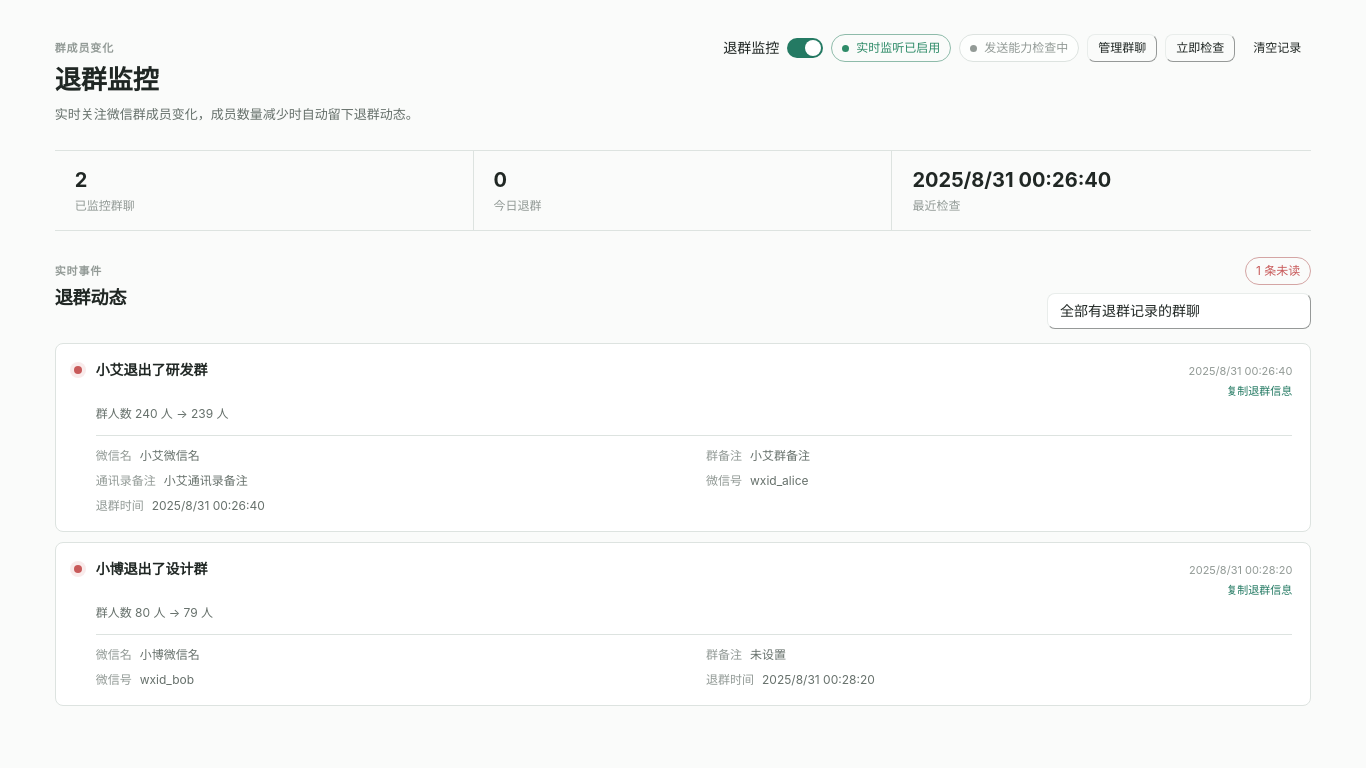
Test: GroupExitMonitorWorkspace › filters to groups that have exit events and clears the history
Check: the text "小博退出了设计群" is shown, box [96,559,208,579]
Click the dropdown named "筛选退群群聊".
click(1179, 311)  # box [1047,293,1311,329]
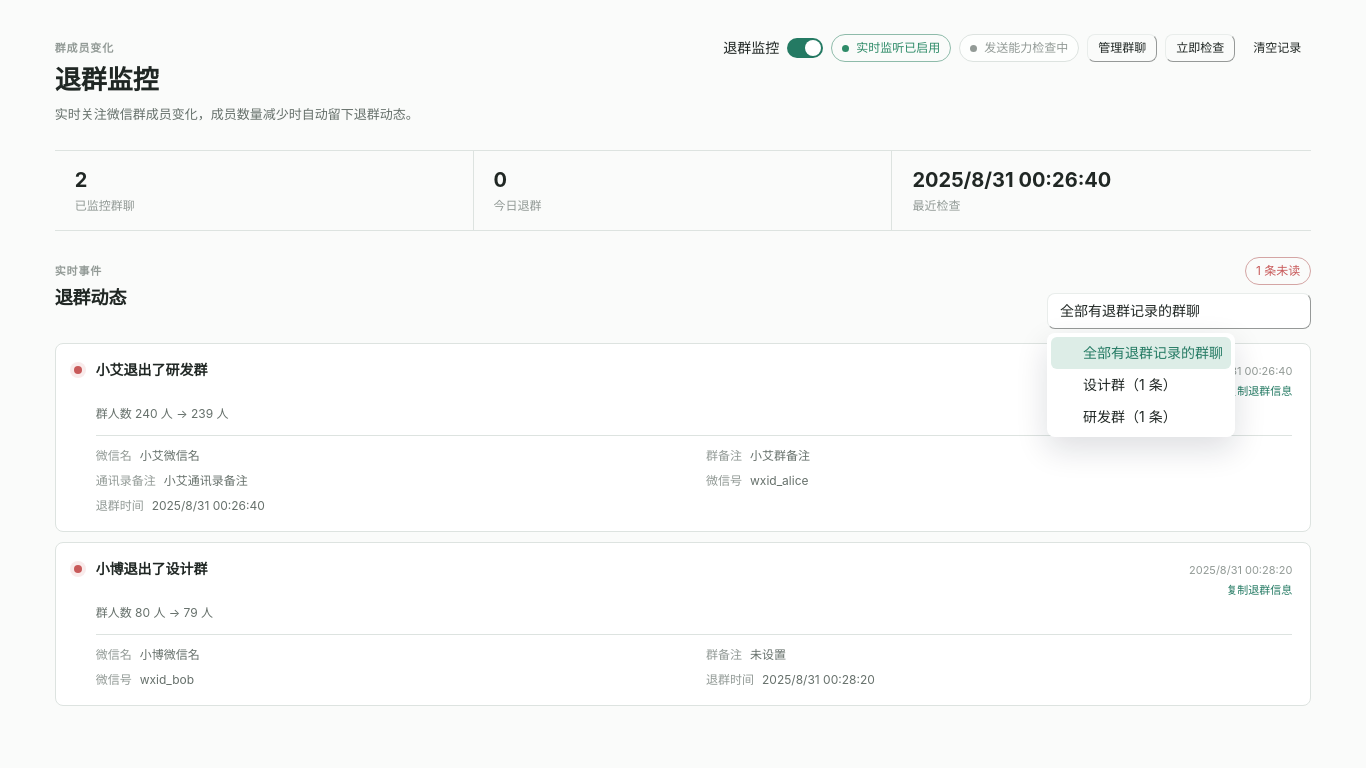
Click the option "研发群（1 条）".
click(1130, 416)  # box [1083,408,1177,425]
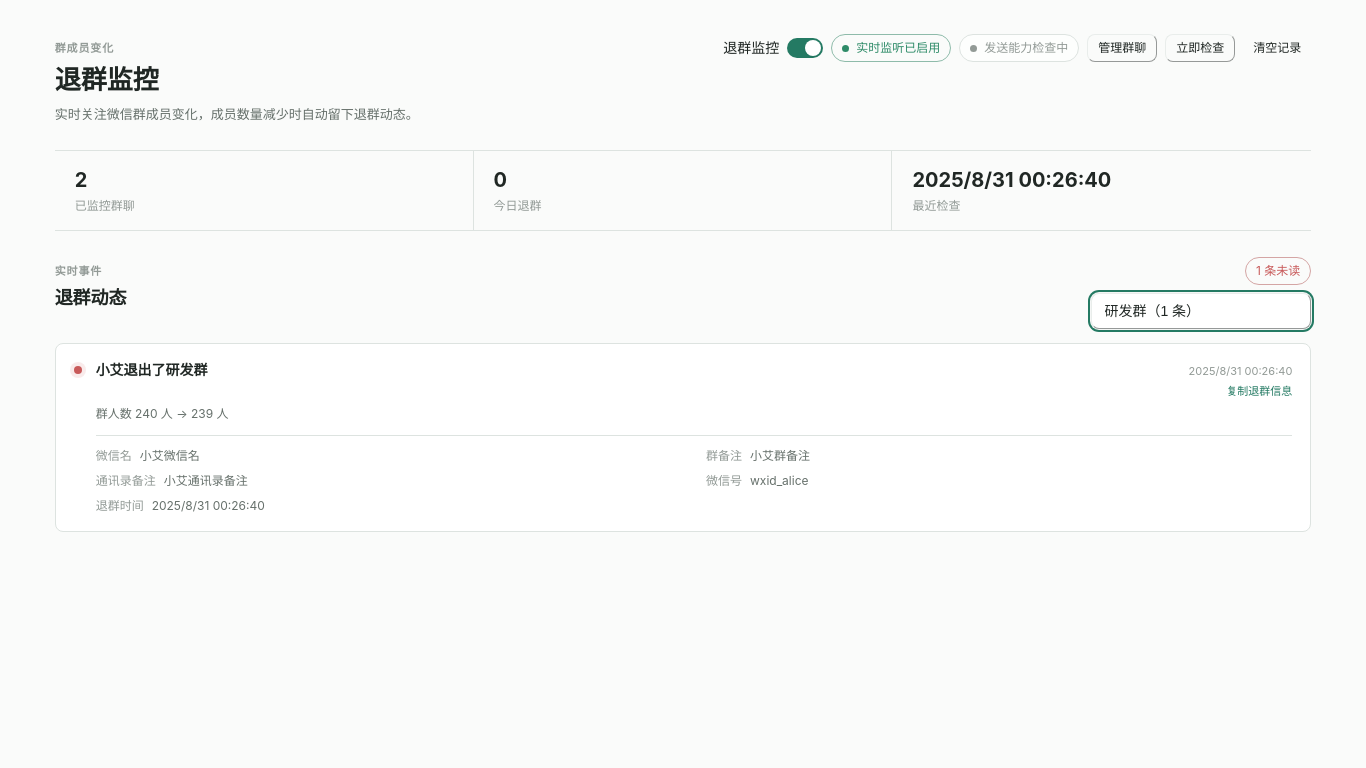
Check: the text "小艾退出了研发群" is shown, box [96,360,208,380]
Check: the text "小博退出了设计群" is gone
Click the button "清空记录".
click(1277, 48)  # box [1243,34,1311,62]
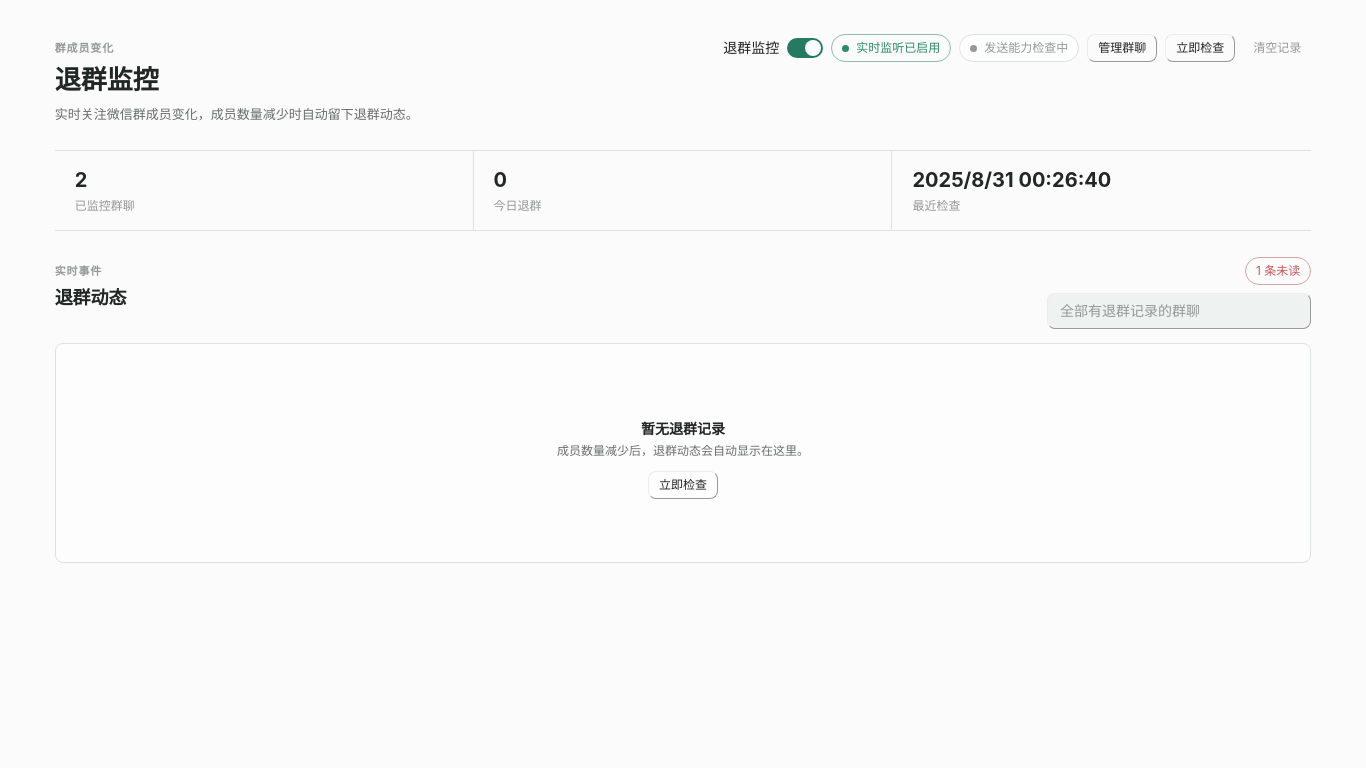
Check: the text "小艾退出了研发群" is gone
Check: the heading "暂无退群记录" is shown, box [641,420,725,437]
